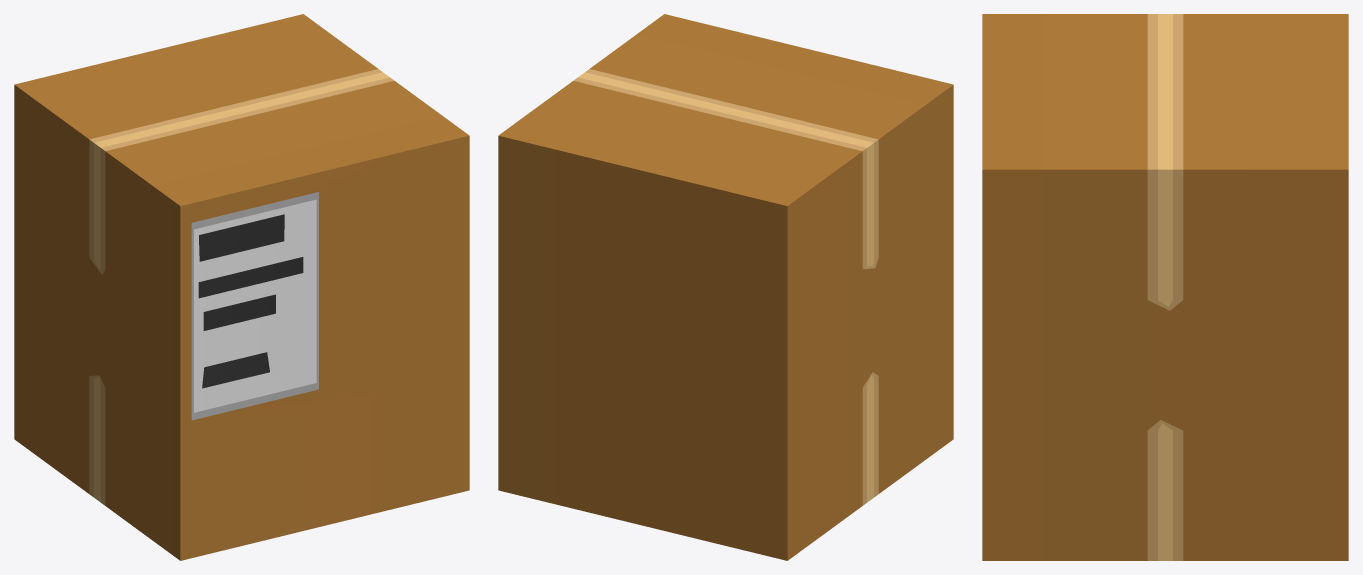
Rendered from Dark Packing Box #3.fbx.
3 renders of one model, left to right at view 1: azimuth 30°, elevation 25°; view 2: azimuth 150°, elevation 25°; view 3: azimuth 270°, elevation 25°, orthographic. The views are drawn at different scales.
Parts seen in each view (by area): view 1: Small Dark Packing Box #1.001; view 2: Small Dark Packing Box #1.001; view 3: Small Dark Packing Box #1.001.
Part boxes in pixels (x1,y1,x2,y2): Small Dark Packing Box #1.001: (14,14,469,560); Small Dark Packing Box #1.001: (498,14,953,560); Small Dark Packing Box #1.001: (982,14,1348,560).
Size of the model in its own units: 218 by 185 by 186.
1 material, 1 textured.
